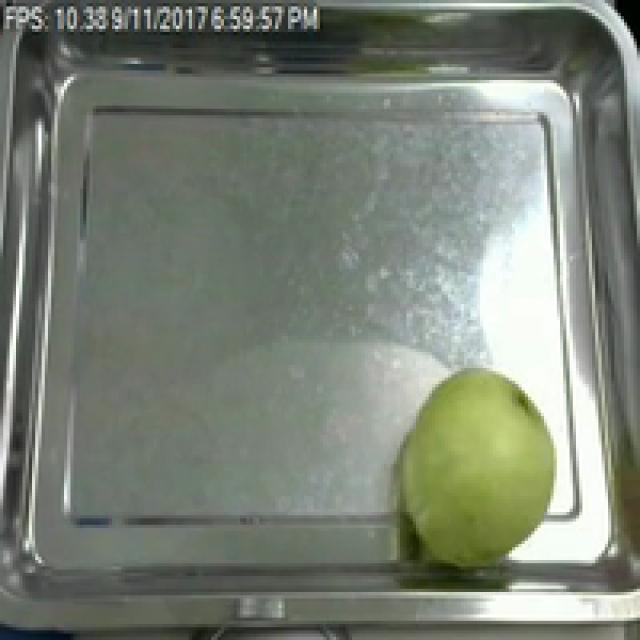Fruit: (384, 362, 576, 566)
